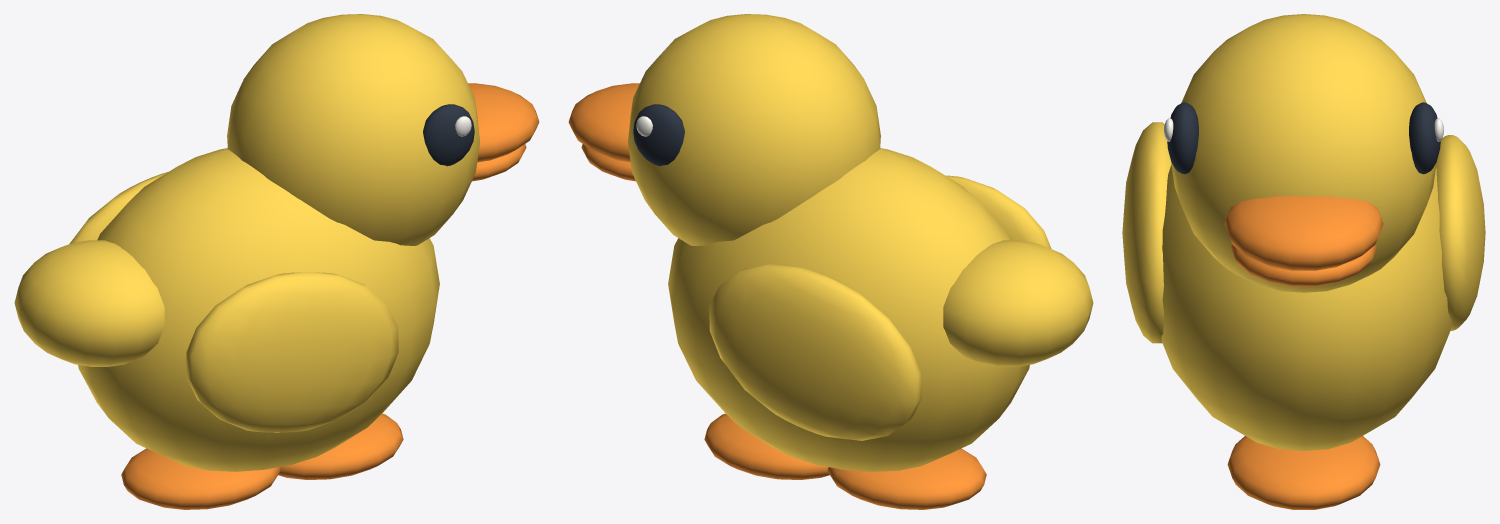
File: duck.glb
3 views of the same model, side by side, from view 1: azimuth 30°, elevation 25°; view 2: azimuth 150°, elevation 25°; view 3: azimuth 270°, elevation 25° (orthographic). The views are drawn at different scales.
Visible parts, largest first — view 1: CMP_Duck_Body, CMP_Duck_Head, CMP_Duck_Wing_Right, CMP_Duck_Tail, CMP_Duck_Foot_1, CMP_Duck_Foot_2, CMP_Duck_Beak_Upper, CMP_Duck_Eye_Right, CMP_Duck_Wing_Left, CMP_Duck_Beak_Lower; view 2: CMP_Duck_Body, CMP_Duck_Head, CMP_Duck_Wing_Left, CMP_Duck_Tail, CMP_Duck_Foot_1, CMP_Duck_Foot_2, CMP_Duck_Beak_Upper, CMP_Duck_Wing_Right, CMP_Duck_Eye_Left, CMP_Duck_Beak_Lower; view 3: CMP_Duck_Body, CMP_Duck_Head, CMP_Duck_Beak_Upper, CMP_Duck_Foot_2, CMP_Duck_Wing_Right, CMP_Duck_Wing_Left, CMP_Duck_Beak_Lower, CMP_Duck_Eye_Left, CMP_Duck_Eye_Right.
Part boxes in pixels (left/top/right/bottom): CMP_Duck_Body: left=78, top=148, right=439, bottom=471; CMP_Duck_Head: left=227, top=14, right=479, bottom=245; CMP_Duck_Wing_Right: left=186, top=272, right=398, bottom=432; CMP_Duck_Tail: left=14, top=240, right=164, bottom=366; CMP_Duck_Foot_1: left=121, top=448, right=280, bottom=509; CMP_Duck_Foot_2: left=278, top=413, right=403, bottom=479; CMP_Duck_Beak_Upper: left=468, top=83, right=539, bottom=162; CMP_Duck_Eye_Right: left=423, top=104, right=474, bottom=166; CMP_Duck_Wing_Left: left=69, top=172, right=167, bottom=243; CMP_Duck_Beak_Lower: left=472, top=144, right=526, bottom=181; CMP_Duck_Body: left=668, top=148, right=1029, bottom=471; CMP_Duck_Head: left=628, top=14, right=880, bottom=245; CMP_Duck_Wing_Left: left=709, top=264, right=921, bottom=440; CMP_Duck_Tail: left=943, top=240, right=1093, bottom=366; CMP_Duck_Foot_1: left=827, top=448, right=986, bottom=509; CMP_Duck_Foot_2: left=704, top=413, right=829, bottom=479; CMP_Duck_Beak_Upper: left=568, top=83, right=639, bottom=162; CMP_Duck_Wing_Right: left=946, top=175, right=1051, bottom=248; CMP_Duck_Eye_Left: left=633, top=104, right=684, bottom=166; CMP_Duck_Beak_Lower: left=581, top=144, right=635, bottom=181; CMP_Duck_Body: left=1161, top=164, right=1451, bottom=450; CMP_Duck_Head: left=1171, top=14, right=1436, bottom=292; CMP_Duck_Beak_Upper: left=1224, top=196, right=1383, bottom=270; CMP_Duck_Foot_2: left=1227, top=436, right=1380, bottom=509; CMP_Duck_Wing_Right: left=1122, top=122, right=1171, bottom=343; CMP_Duck_Wing_Left: left=1436, top=135, right=1485, bottom=330; CMP_Duck_Beak_Lower: left=1231, top=243, right=1376, bottom=286; CMP_Duck_Eye_Left: left=1409, top=102, right=1440, bottom=174; CMP_Duck_Eye_Right: left=1167, top=102, right=1198, bottom=174.
Size of the model in its own units: 2.01 by 1.65 by 1.14.
